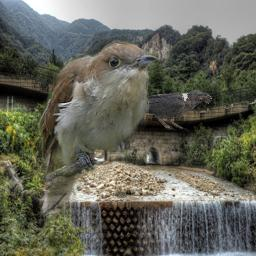Crow: (122, 89, 212, 131)
Cuckoo: (35, 40, 158, 217)
